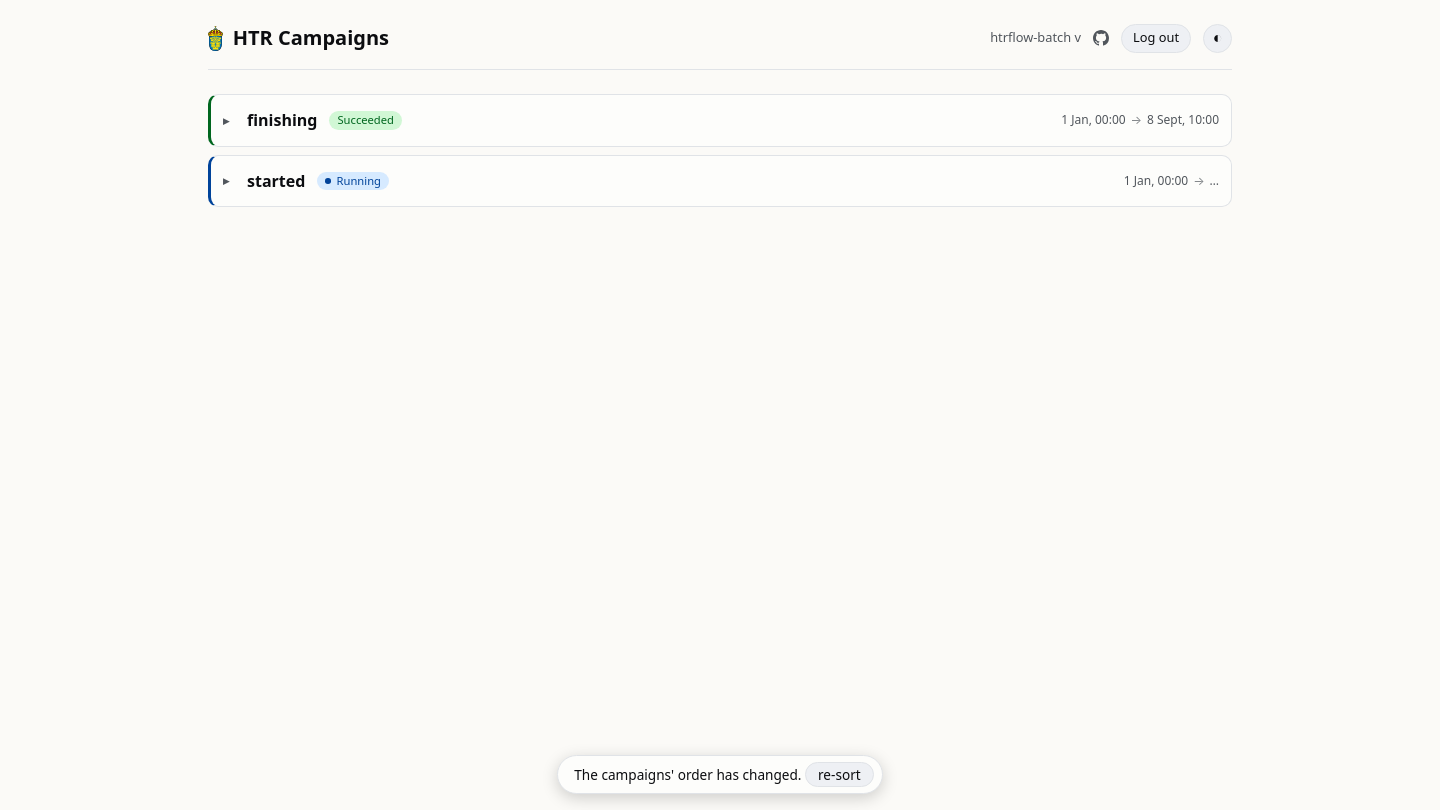
Test: / nothing moves as the page loads › the order a reader has › a drifted order is offered a re-sort, and a click sorts it
The width and height of the screenshot is (1440, 810).
Expected: the element "The campaigns' order has changed. re-sort" is shown, [557,755,883,794]
What coordinates should you click on to do the following:
click the button "re-sort"
I would click on:
 (839, 774)
Its box is [805,762,874,787].
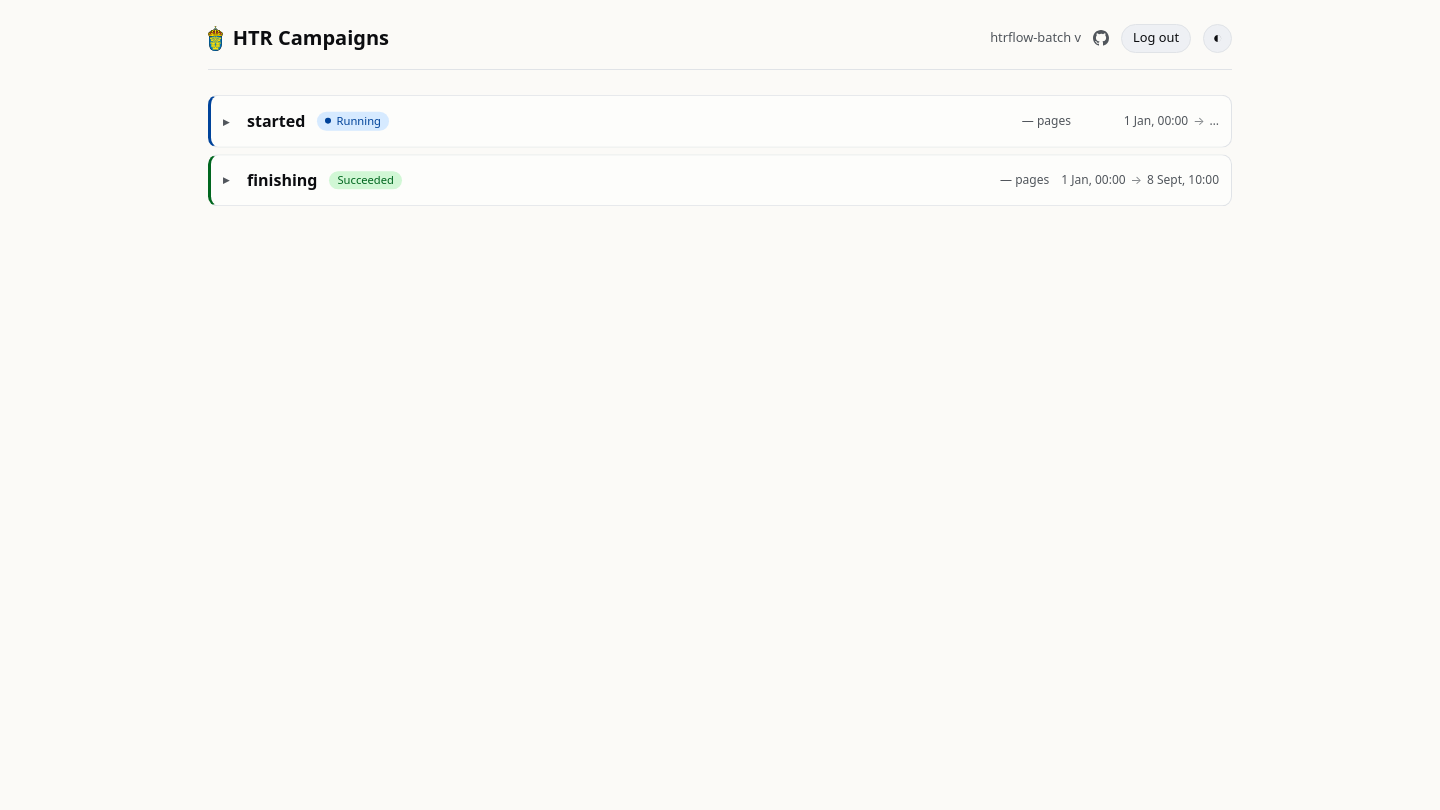
Result: the button "re-sort" is gone
